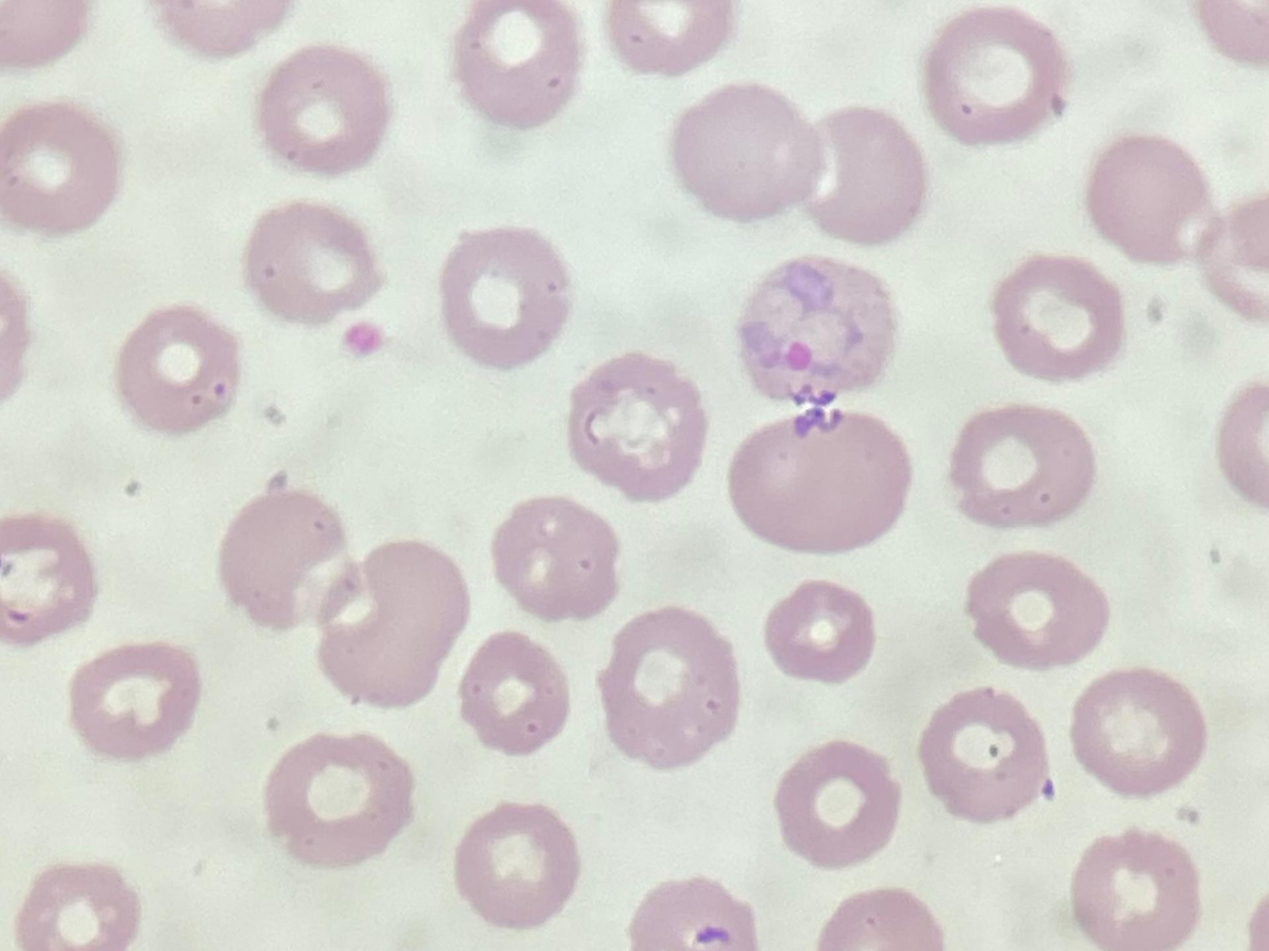Infected: (373, 548, 530, 693)
Uninfected: (357, 397, 541, 541), (799, 245, 952, 410), (529, 182, 670, 340), (561, 449, 701, 595), (442, 731, 593, 866), (853, 83, 1003, 217), (200, 806, 346, 941), (913, 322, 1050, 465), (697, 583, 829, 720), (174, 422, 319, 545), (218, 128, 351, 262), (160, 280, 304, 402), (63, 153, 199, 281), (879, 777, 1014, 905), (368, 82, 500, 212), (143, 572, 278, 696), (344, 707, 467, 843), (887, 626, 1022, 749), (1145, 714, 1269, 845), (54, 690, 181, 817), (1028, 515, 1152, 645), (690, 821, 816, 947), (648, 330, 775, 455), (690, 23, 814, 147), (71, 1, 199, 121), (1071, 192, 1198, 306), (699, 196, 812, 317), (1171, 305, 1269, 433), (393, 266, 507, 369), (1127, 0, 1252, 89), (535, 877, 659, 951)
